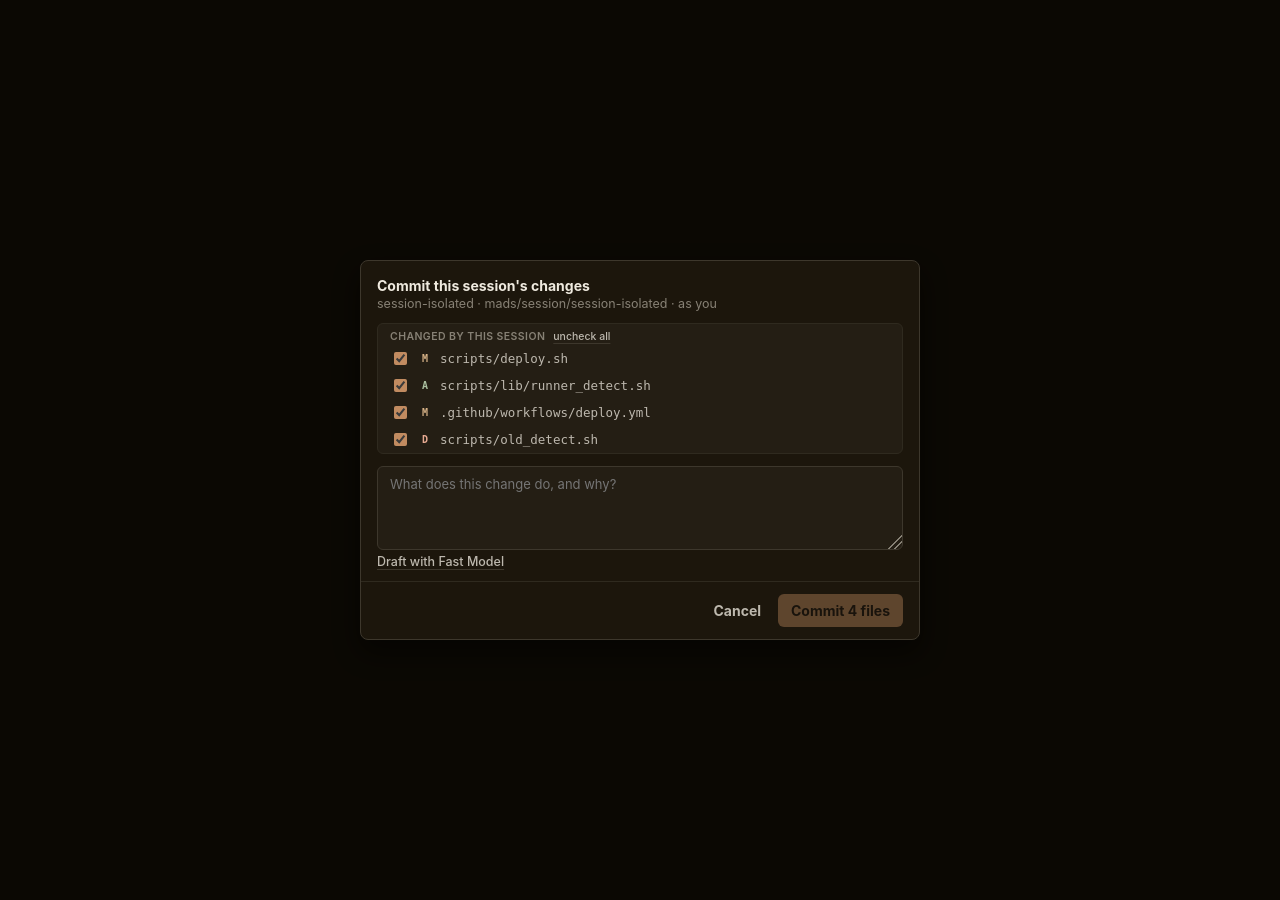
it: CommitDialog — one repo (D2, mockup §2) › names a path already committed elsewhere instead of failing the commit
In the text box named "Commit message": (640, 508) [377,466,903,550], type "Fix deploy"
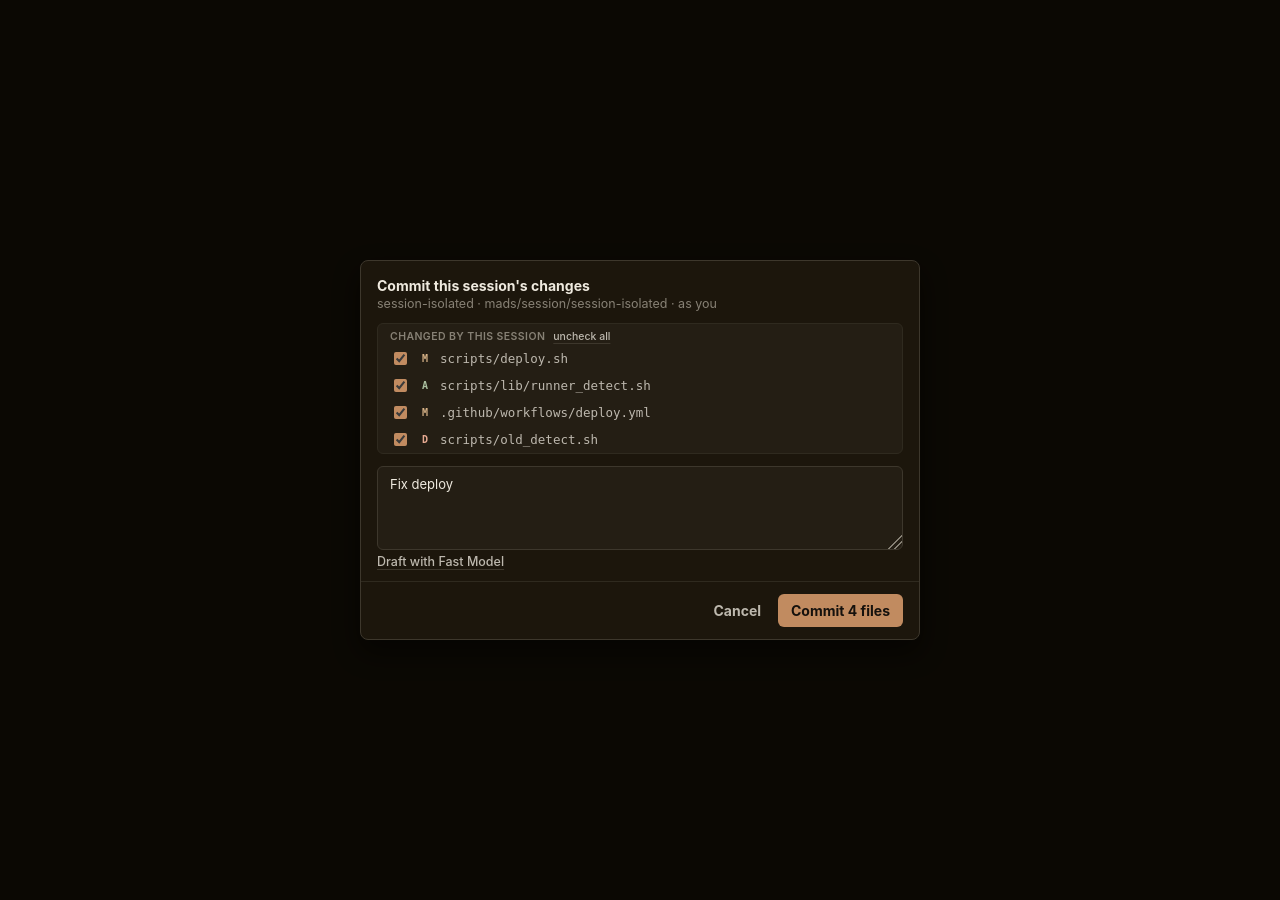
expect the button "scripts/deploy.sh" is shown: met, box [440,351,890,366]
Click the button "Commit 4 files": (840, 610) [778,594,903,627]
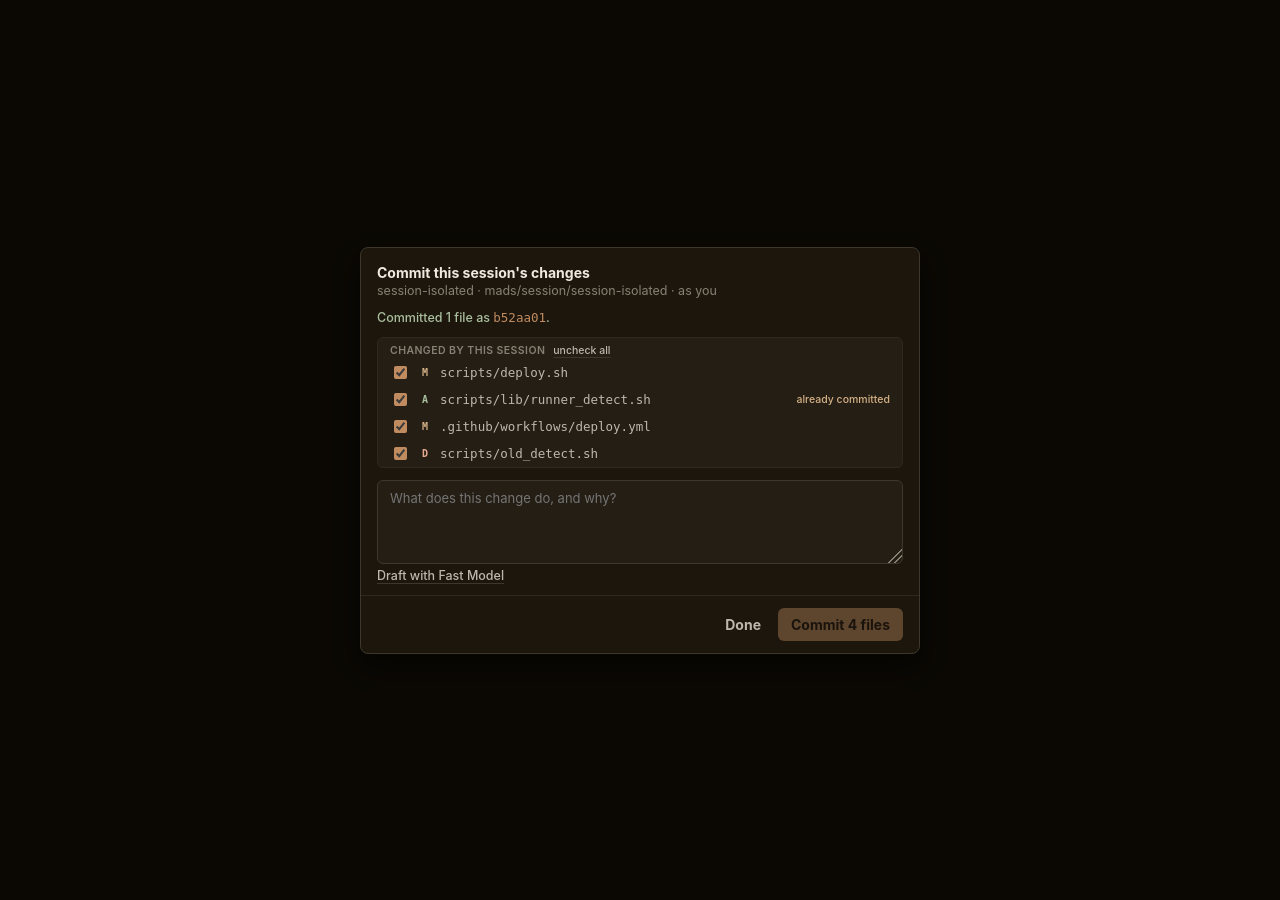
expect the text "Committed 1 file as b52aa01." is shown: met, box [377,310,550,324]
expect the text "already committed" is shown: met, box [796,392,890,406]
expect the button "Done" is shown: met, box [716,608,770,640]
